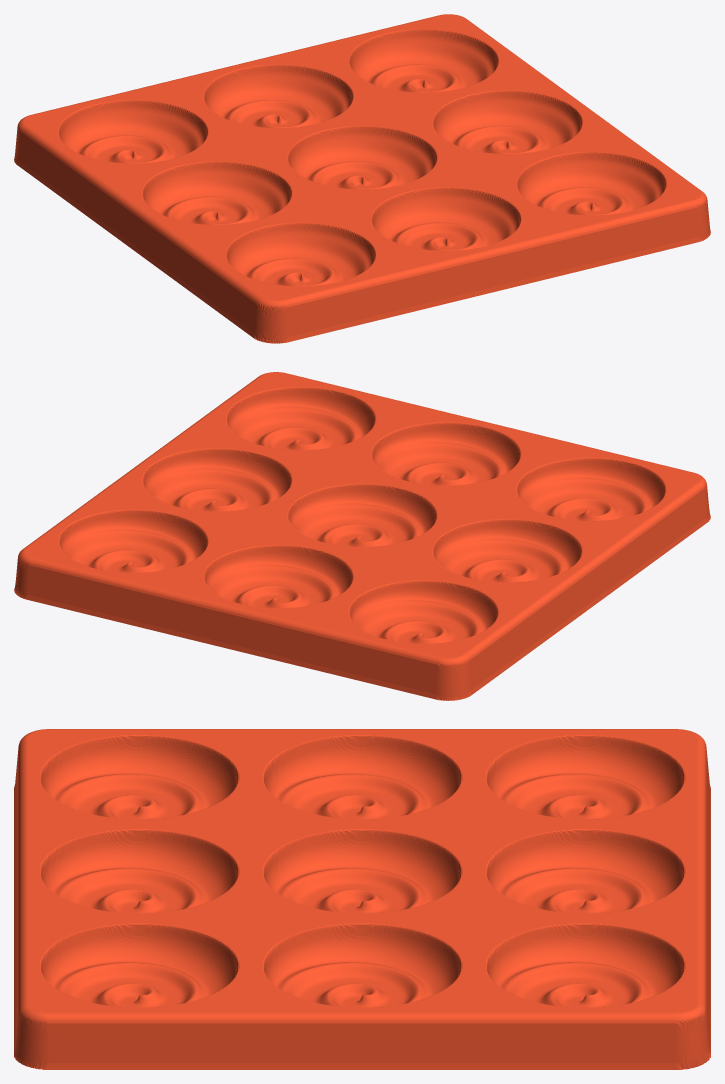
Rendered from mold.glb.
3 views of the same model, one above another, from view 1: azimuth 30°, elevation 25°; view 2: azimuth 150°, elevation 25°; view 3: azimuth 270°, elevation 25° (orthographic). The views are drawn at different scales.
Visible parts, largest first — view 1: geometry_0; view 2: geometry_0; view 3: geometry_0.
Part boxes in pixels (bbox=[...]): geometry_0: bbox=[14, 14, 710, 343]; geometry_0: bbox=[14, 372, 710, 700]; geometry_0: bbox=[14, 729, 710, 1069].
Bounding box in the file's own units: 0.1804 × 0.0147 × 0.1804.
